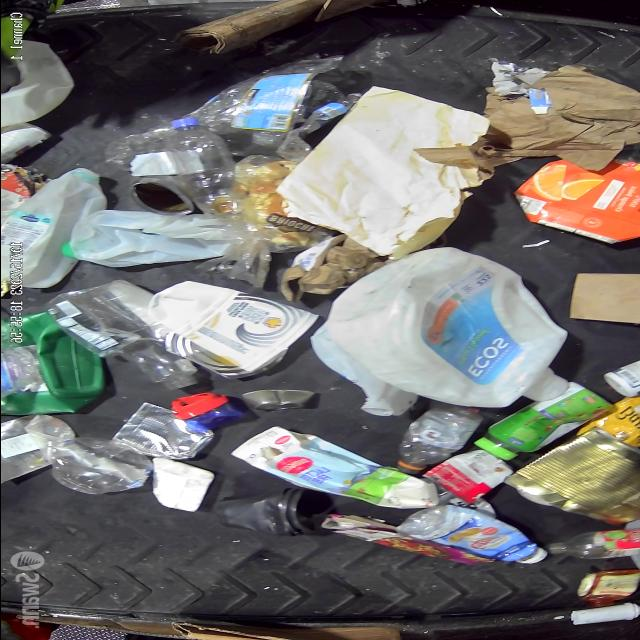can: (503, 427, 640, 525), (109, 402, 215, 460), (163, 332, 287, 380), (420, 449, 514, 505), (125, 174, 195, 217), (0, 121, 51, 164), (242, 389, 314, 412)
milk_jug: (325, 247, 569, 408), (0, 168, 107, 288), (309, 322, 419, 417), (58, 210, 230, 268), (0, 39, 73, 126)
non_white_jug: (228, 426, 436, 510), (511, 158, 640, 244), (1, 312, 105, 416)
plastic_bottle: (45, 279, 196, 392), (168, 117, 240, 215), (274, 92, 362, 162), (395, 408, 481, 473), (0, 414, 74, 484), (546, 528, 640, 560)
